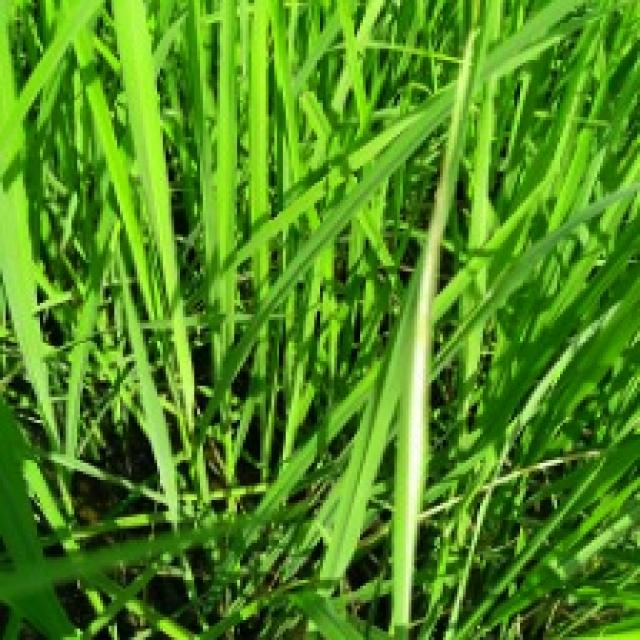Unhealthy: (402, 34, 475, 640)
